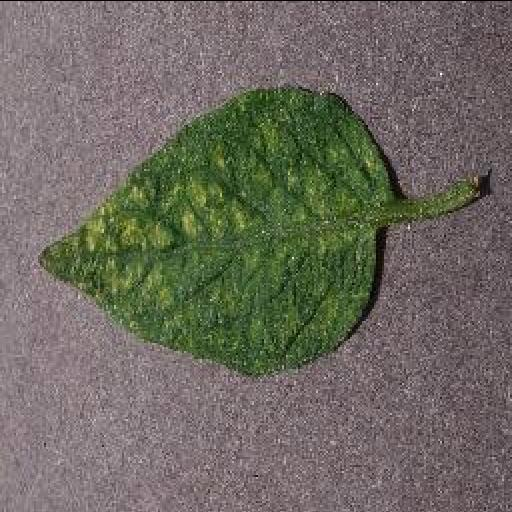disease_tomato: (34, 88, 392, 370)
